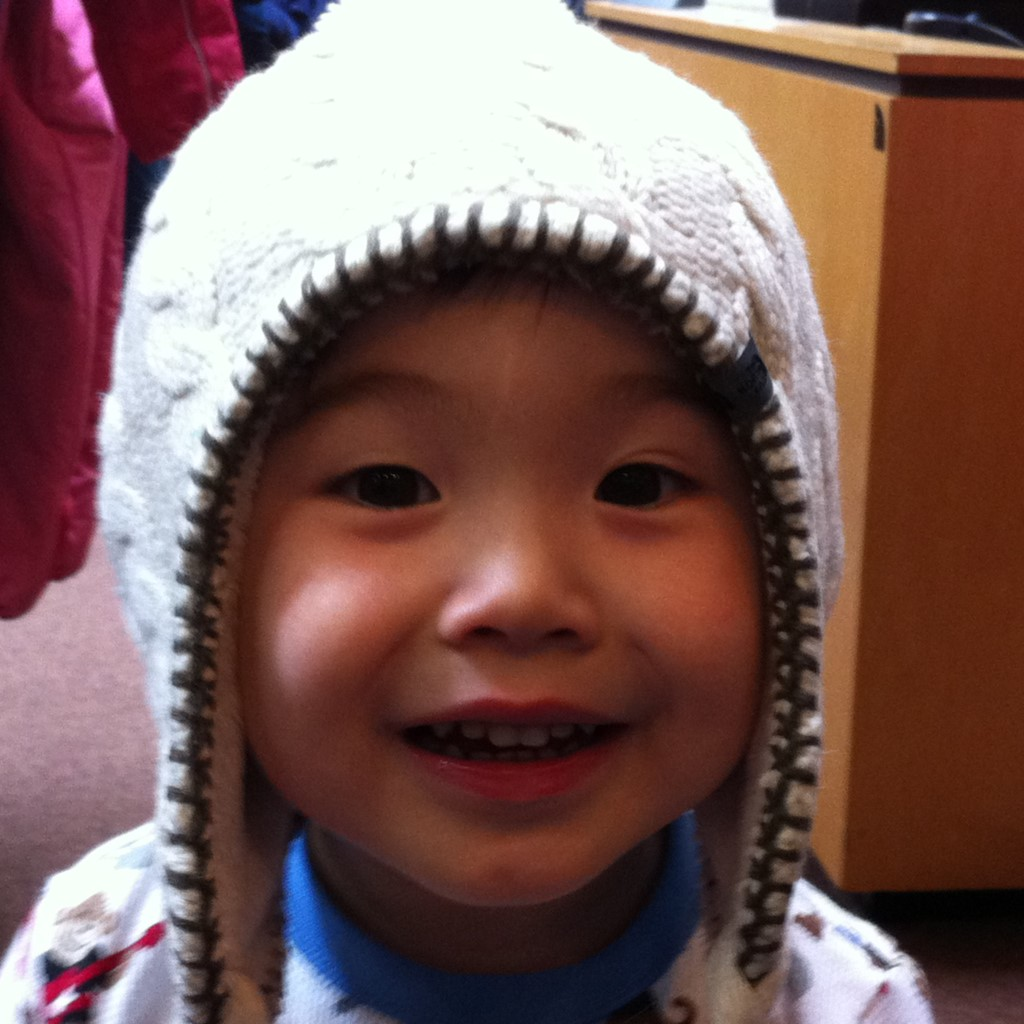sin_mascara: (253, 239, 774, 894)
